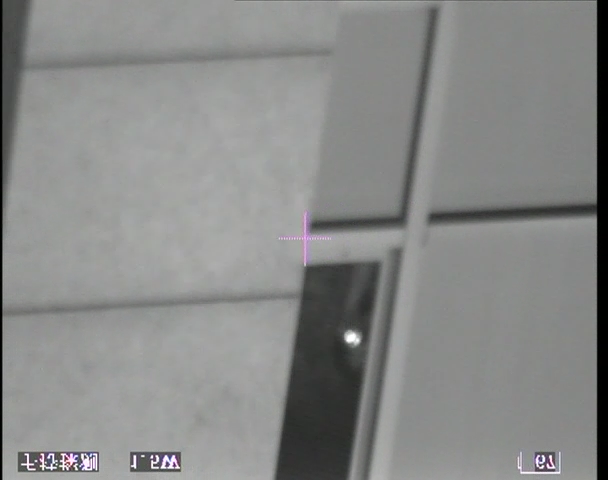my: (342, 328, 363, 347)
